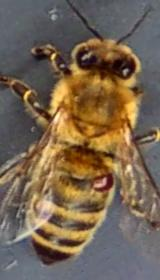varroa_mite: (86, 164, 124, 195)
